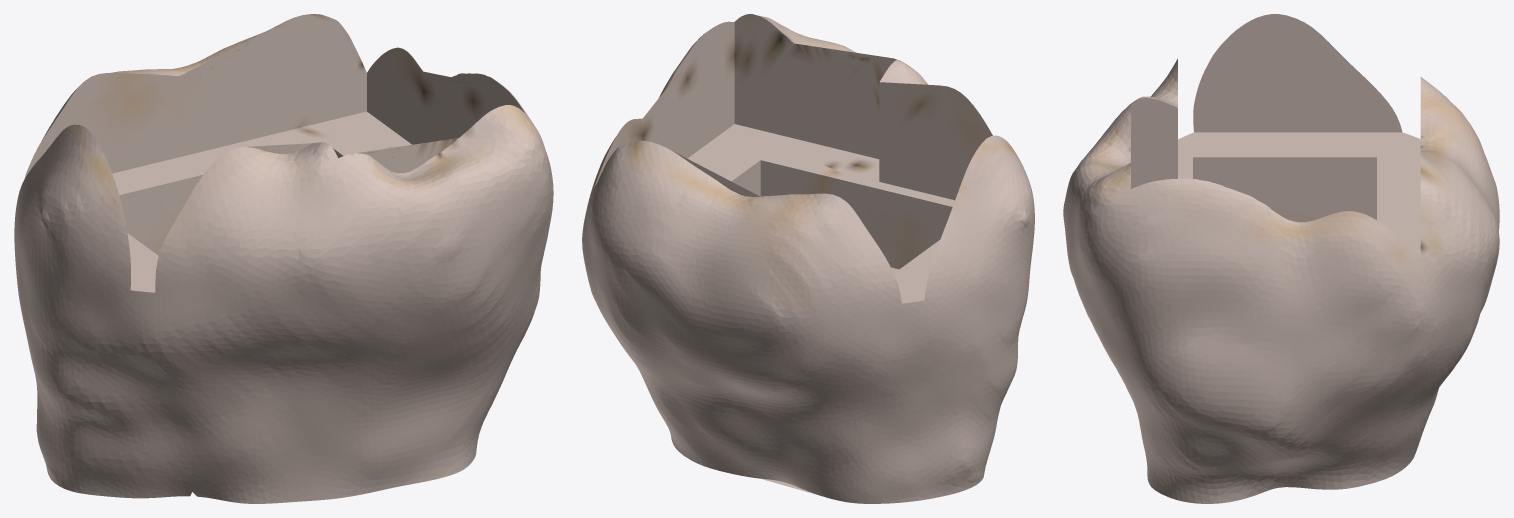
File: Difference.fbx
3 views of the same model, side by side, from view 1: azimuth 30°, elevation 25°; view 2: azimuth 150°, elevation 25°; view 3: azimuth 270°, elevation 25° (orthographic). The views are drawn at different scales.
Visible parts, largest first — view 1: Difference; view 2: Difference; view 3: Difference.
Boxes of the visible parts, bbox=[...] form: Difference: bbox=[14, 14, 553, 503]; Difference: bbox=[582, 14, 1034, 503]; Difference: bbox=[1063, 14, 1499, 503].
Bounding box in the file's own units: 130 × 102 × 121.
1 material, 1 textured.
